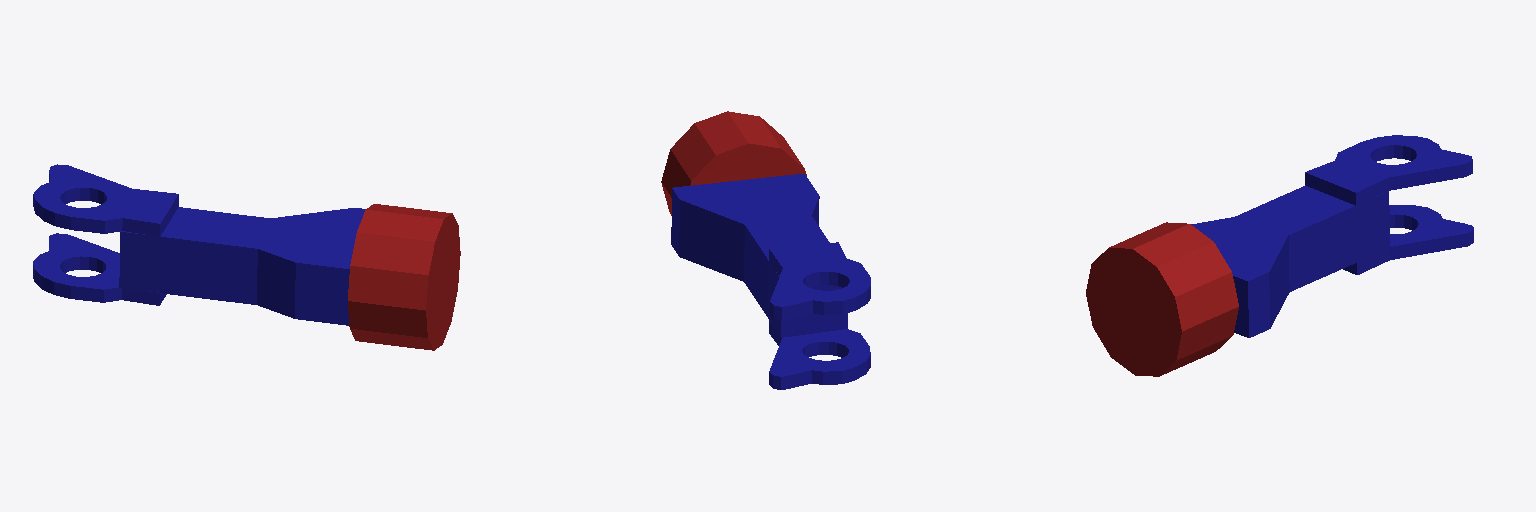
The model's file is R_SFE.obj.
3 renders of one model, left to right at view 1: azimuth 30°, elevation 25°; view 2: azimuth 150°, elevation 25°; view 3: azimuth 270°, elevation 25°, orthographic.
Parts seen in each view (by area): view 1: R_SFE.2_ShapeIndexedFaceS.047, R_SFE.1_ShapeIndexedFaceS.046, R_SFE.3_ShapeIndexedFaceS.045, R_SFE.4_ShapeIndexedFaceS.044; view 2: R_SFE.2_ShapeIndexedFaceS.047, R_SFE.1_ShapeIndexedFaceS.046, R_SFE.3_ShapeIndexedFaceS.045, R_SFE.4_ShapeIndexedFaceS.044; view 3: R_SFE.1_ShapeIndexedFaceS.046, R_SFE.2_ShapeIndexedFaceS.047, R_SFE.3_ShapeIndexedFaceS.045, R_SFE.4_ShapeIndexedFaceS.044.
Boxes of the visible parts, box(x1,y1,x2,y2) form: R_SFE.2_ShapeIndexedFaceS.047: box(119, 207, 365, 325); R_SFE.1_ShapeIndexedFaceS.046: box(348, 204, 460, 350); R_SFE.3_ShapeIndexedFaceS.045: box(33, 164, 178, 236); R_SFE.4_ShapeIndexedFaceS.044: box(33, 233, 166, 305); R_SFE.2_ShapeIndexedFaceS.047: box(671, 174, 847, 337); R_SFE.1_ShapeIndexedFaceS.046: box(661, 111, 806, 215); R_SFE.3_ShapeIndexedFaceS.045: box(769, 242, 870, 319); R_SFE.4_ShapeIndexedFaceS.044: box(769, 320, 870, 389); R_SFE.1_ShapeIndexedFaceS.046: box(1086, 222, 1238, 376); R_SFE.2_ShapeIndexedFaceS.047: box(1191, 185, 1389, 337); R_SFE.3_ShapeIndexedFaceS.045: box(1305, 135, 1472, 205); R_SFE.4_ShapeIndexedFaceS.044: box(1343, 205, 1473, 274).
Bounding box in the file's own units: 8.11 × 3.18 × 8.77.